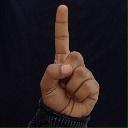hand: (39, 3, 99, 118)
